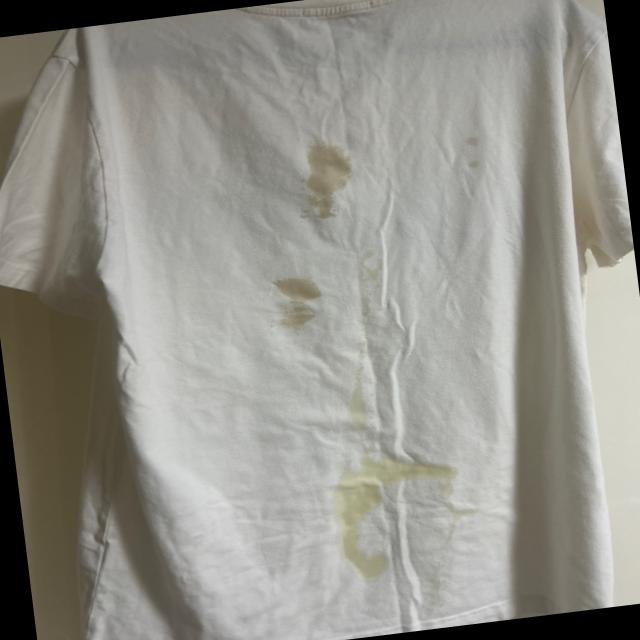stain: (338, 443, 462, 496), (292, 137, 355, 220), (264, 269, 322, 333), (336, 534, 396, 590), (332, 490, 390, 538), (450, 129, 494, 174)
